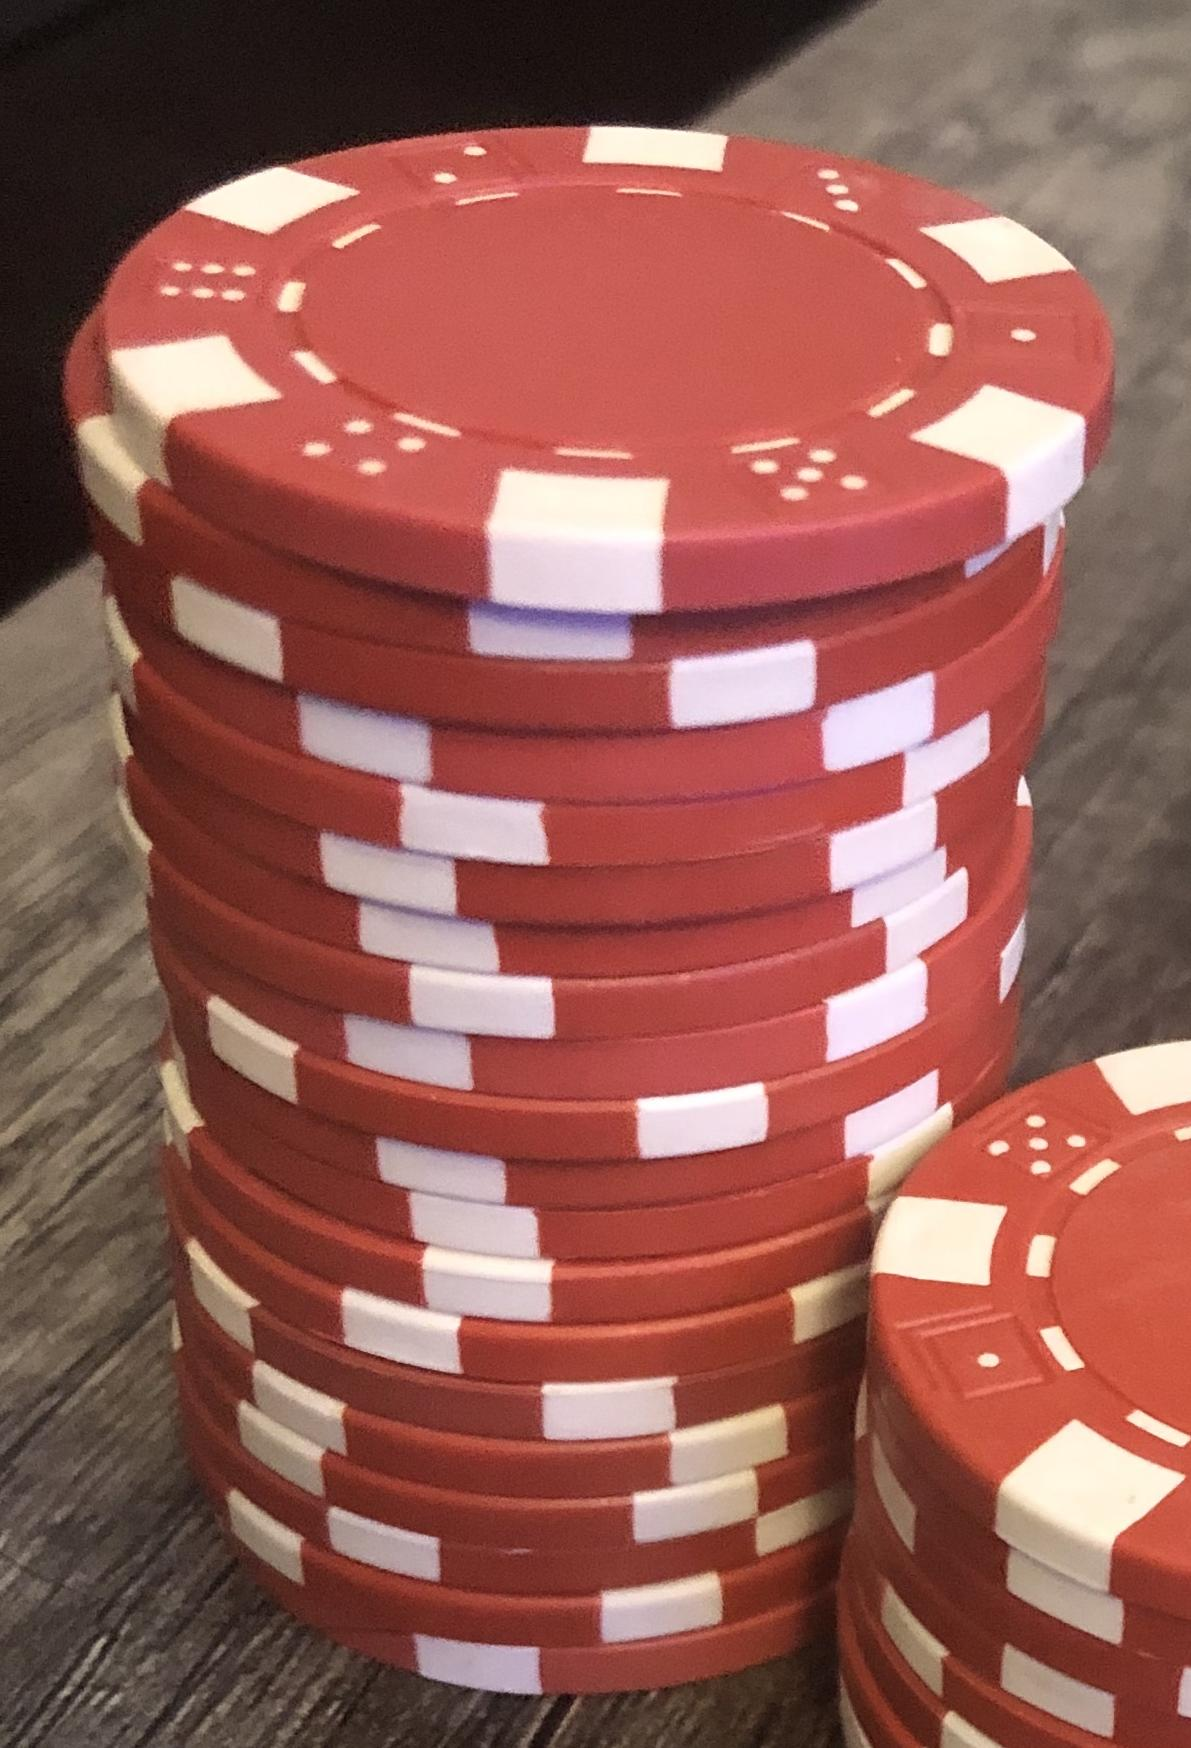Chip: (1, 1, 1191, 1748)
